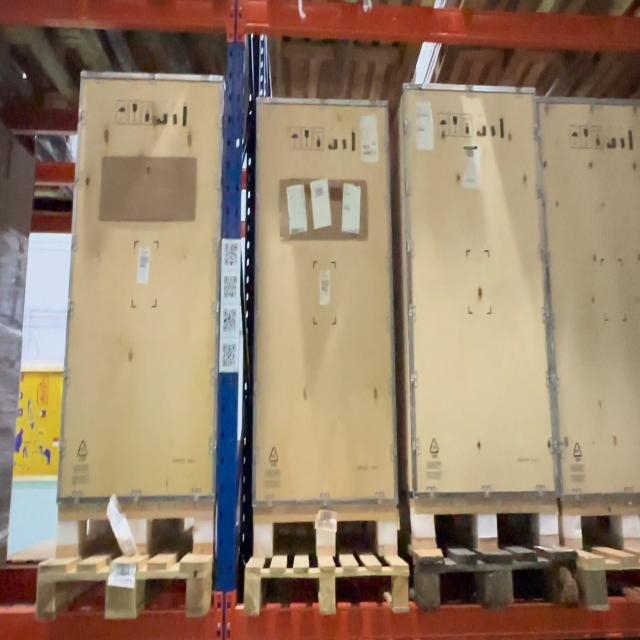box: (83, 78, 211, 494), (261, 104, 391, 498), (412, 89, 537, 492)
